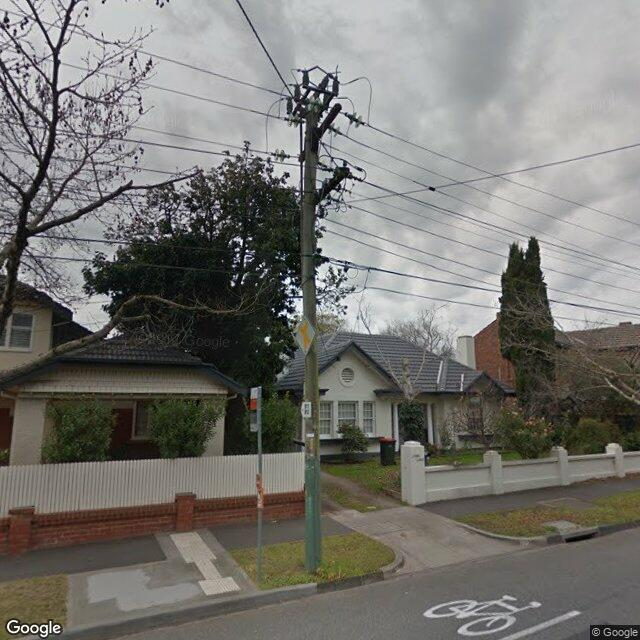HV-switch: (286, 66, 339, 119)
HV-transmission: (268, 96, 370, 162)
crossarm: (298, 103, 342, 162), (315, 167, 350, 205)
timber-pole: (302, 111, 324, 574)
